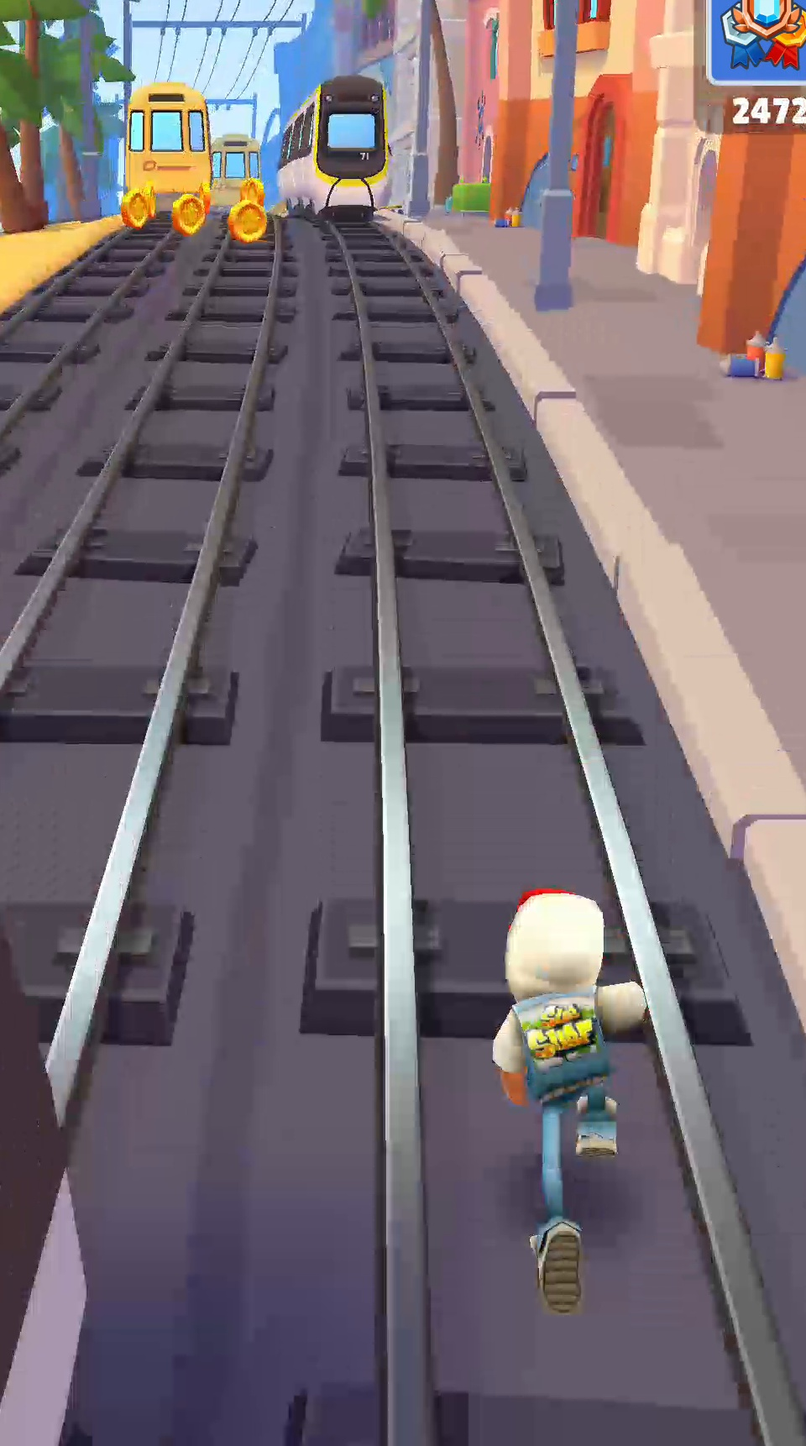train: (0, 931, 85, 1445), (277, 75, 390, 218), (122, 81, 212, 223), (212, 134, 261, 208)
